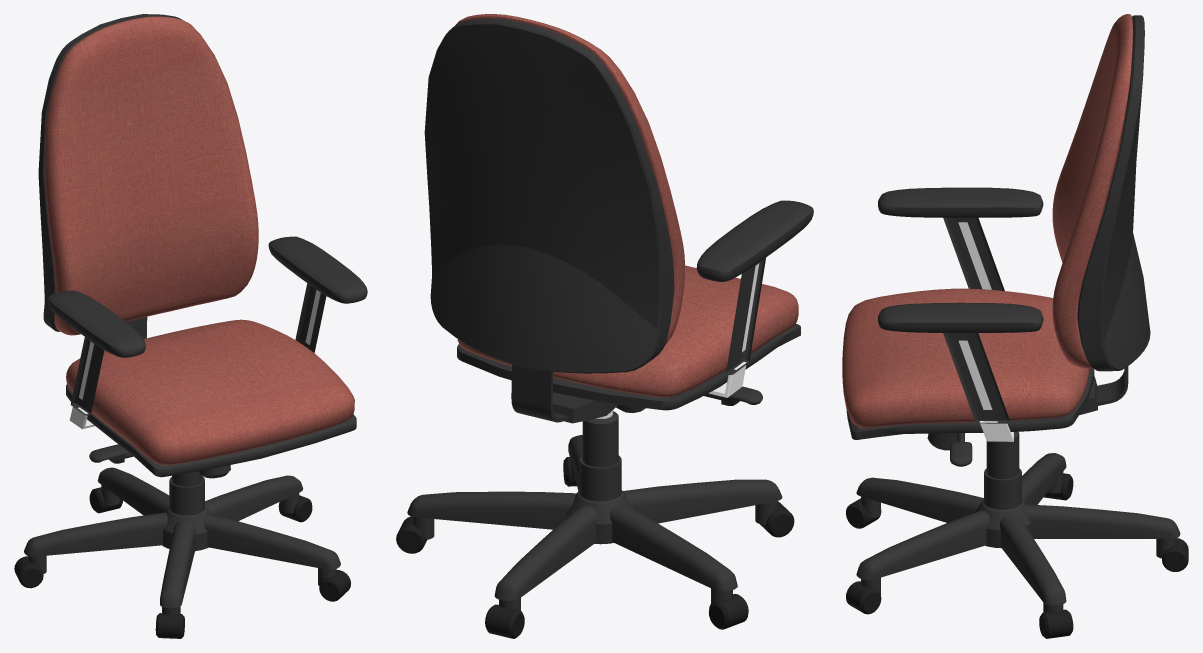
Rendered from chair.gltf.
3 renders of one model, left to right at view 1: azimuth 30°, elevation 25°; view 2: azimuth 150°, elevation 25°; view 3: azimuth 270°, elevation 25°, orthographic. The views are drawn at different scales.
Parts seen in each view (by area): view 1: OfficeChair_0; view 2: OfficeChair_0; view 3: OfficeChair_0.
Boxes of the visible parts, x1=… form: OfficeChair_0: x1=14, y1=14, x2=367, y2=638; OfficeChair_0: x1=396, y1=14, x2=813, y2=638; OfficeChair_0: x1=842, y1=14, x2=1188, y2=638.
Bounding box in the file's own units: 0.6719 × 1.1 × 0.6457.
4 materials, 1 textured.
